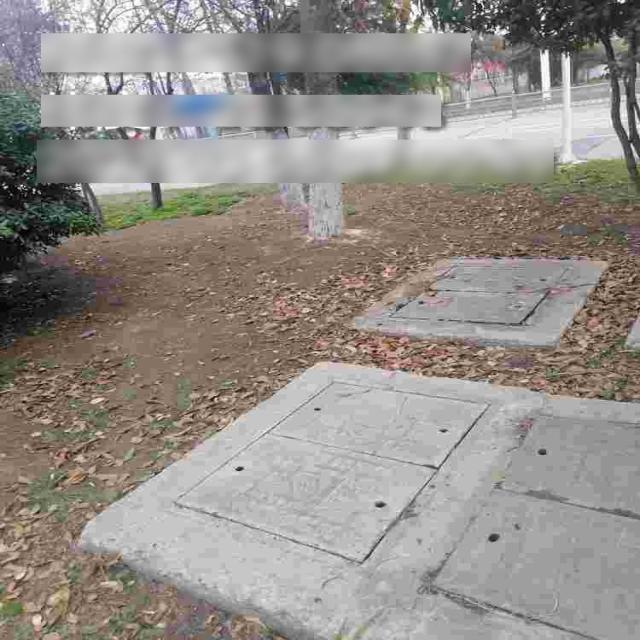Good: (186, 371, 501, 566), (384, 248, 589, 336)
